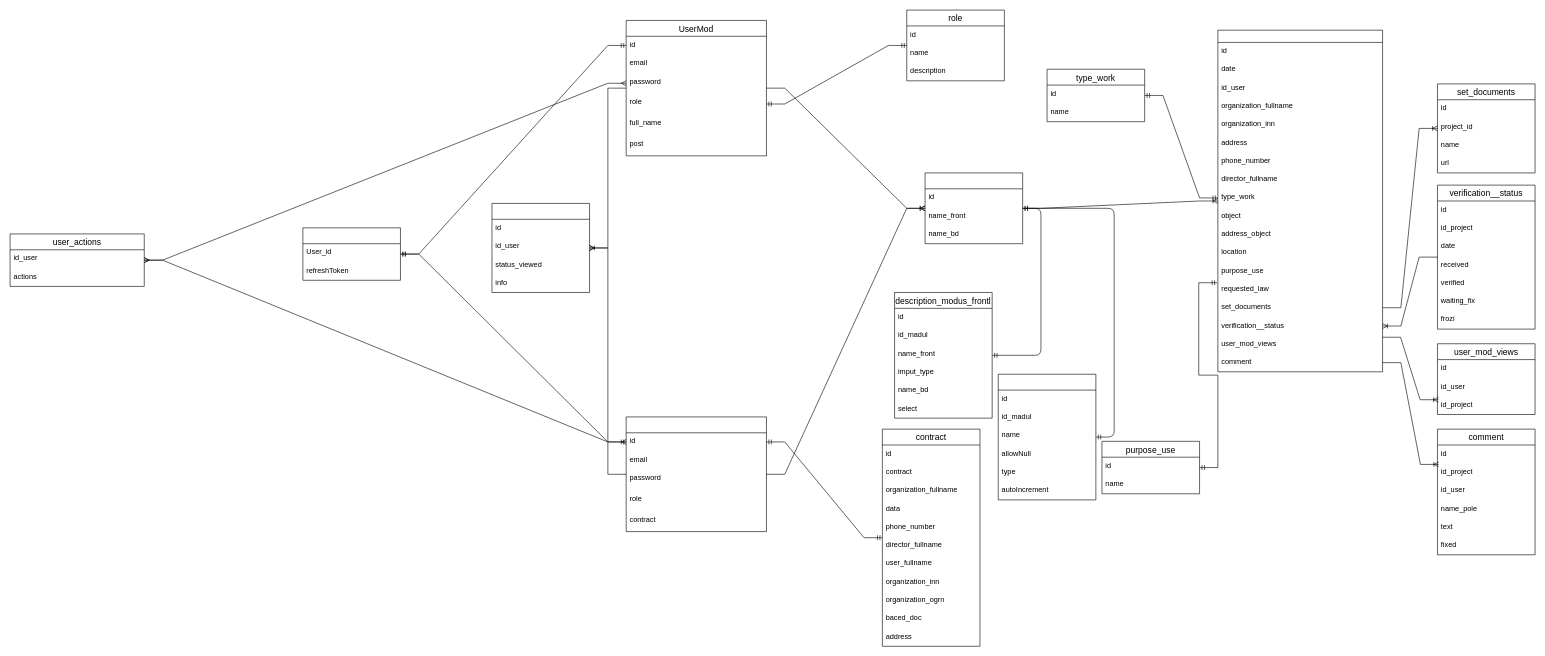
Image size: 1545x656. Some labels were removed from this diagram. Each missing label, with the box of its shape:
Alert: (491, 203, 590, 292)
description_moduls: (998, 374, 1096, 500)
modul: (924, 172, 1023, 244)
project: (1217, 30, 1383, 372)
Tokens: (302, 227, 400, 280)
UserClient: (626, 416, 766, 532)
